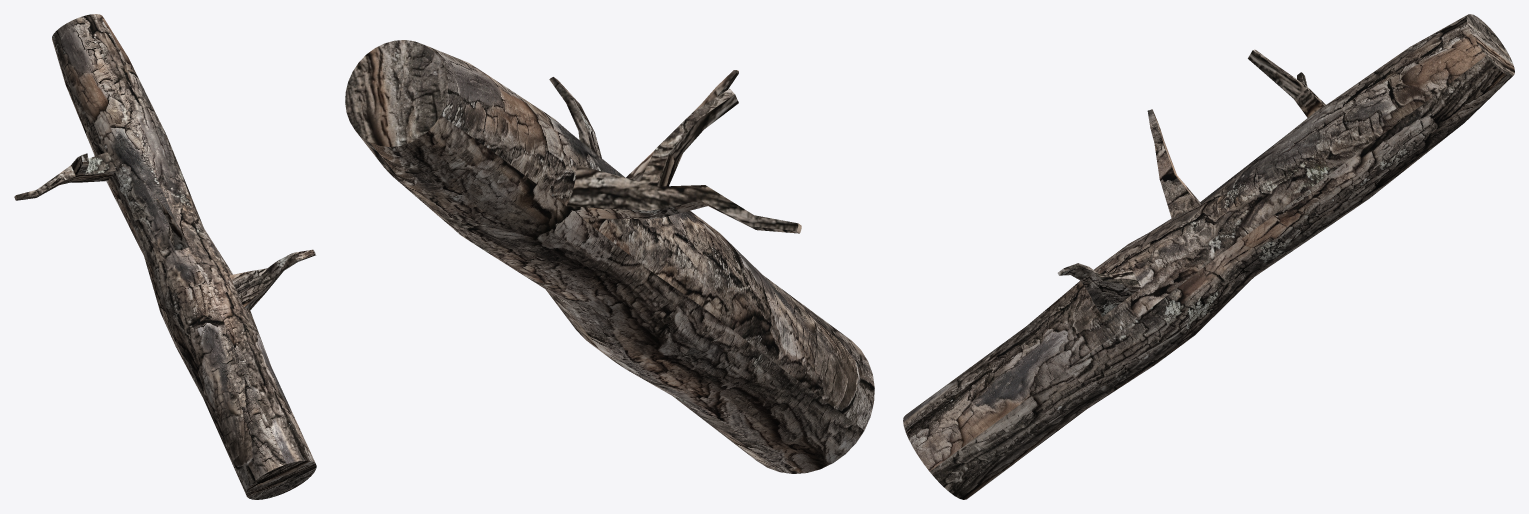
File: tree_bark_fallen.glb
3 views of the same model, side by side, from view 1: azimuth 30°, elevation 25°; view 2: azimuth 150°, elevation 25°; view 3: azimuth 270°, elevation 25° (orthographic). The views are drawn at different scales.
Visible parts, largest first — view 1: Cylinder; view 2: Cylinder; view 3: Cylinder.
Part boxes in pixels (x1,y1,x2,y2): Cylinder: (14, 14, 316, 499); Cylinder: (345, 40, 874, 473); Cylinder: (903, 14, 1514, 499).
Bounding box in the file's own units: 3.29 × 5.19 × 6.05.
Materials: 1 (1 with a texture image).
